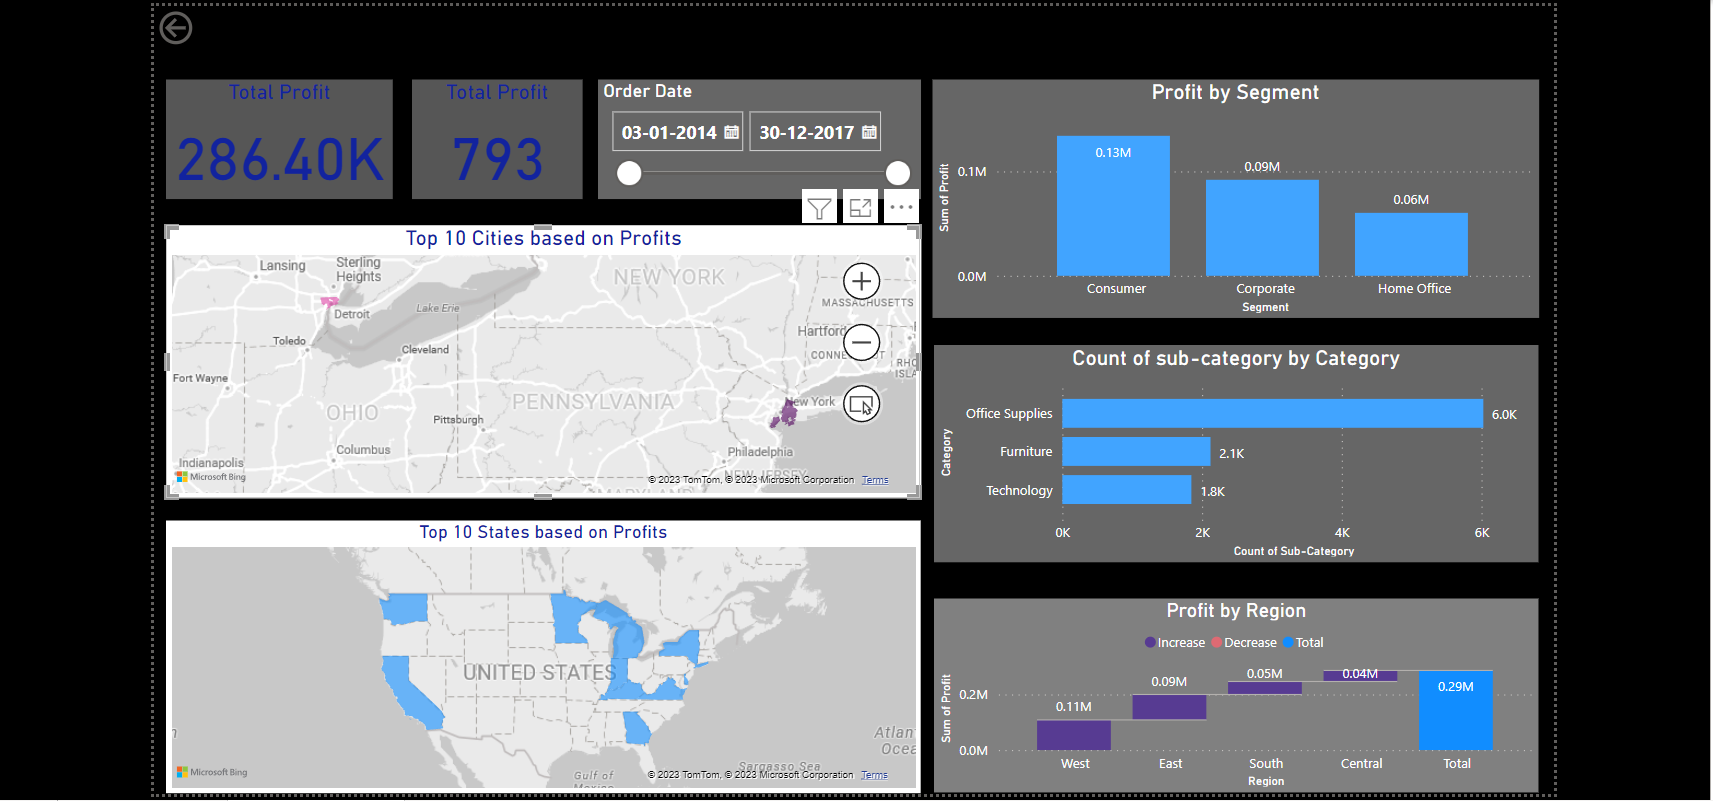

The dashboard page shown, as its layout file describes it:
{"tool":"powerbi","page":{"name":"Profit Analysis","canvas":[1280,720],"ordinal":1},"visuals":[{"type":"card","title":"Total Profit","fields":{"Values":["Sum(Orders.Profit)"]},"box":[10.6,66.6,207.4,109],"z":0},{"type":"card","title":"Total Profit","fields":{"Values":["Count(Orders.Customer Name)"]},"box":[236.2,66.6,156,109],"z":1000},{"type":"slicer","title":"Order Date","fields":{"Values":["Orders.Order Date"]},"box":[405.8,66.6,295.3,109],"z":2000},{"type":"columnChart","title":"Profit by Segment","fields":{"Category":["Orders.Segment"],"Y":["Sum(Orders.Profit)"]},"box":[712,66.7,554.4,218.1],"z":3000},{"type":"clusteredBarChart","title":"Count of sub-category by Category","fields":{"Y":["CountNonNull(Orders.Sub-Category)"],"Category":["Orders.Category"]},"box":[713.5,310.5,552.9,198.4],"z":4000},{"type":"waterfallChart","title":"Profit by Region","fields":{"Category":["Orders.Region"],"Y":["Sum(Orders.Profit)"]},"box":[713.5,542.3,552.9,177.2],"z":5000},{"type":"filledMap","title":"Top 10 States based on Profits","fields":{"Category":["Orders.State"]},"box":[11.3,470.8,690.1,249.6],"z":6000},{"type":"filledMap","title":"Top 10 Cities based on Profits","fields":{"Category":["Orders.City"]},"box":[10.6,200,690.7,249.9],"z":7000},{"type":"actionButton","box":[0,0,100,40],"z":8000}]}

Visuals, with their boxes in screenshot pixels (x1, y1, x2, y2):
"Total Profit" card: (159,73,387,193)
"Total Profit" card: (407,73,579,193)
"Order Date" slicer: (594,73,918,193)
"Profit by Segment" columnChart: (930,73,1540,313)
"Count of sub-category by Category" clusteredBarChart: (932,341,1540,560)
"Profit by Region" waterfallChart: (932,596,1540,791)
"Top 10 States based on Profits" filledMap: (160,518,919,792)
"Top 10 Cities based on Profits" filledMap: (159,220,919,495)
actionButton: (147,0,257,44)
